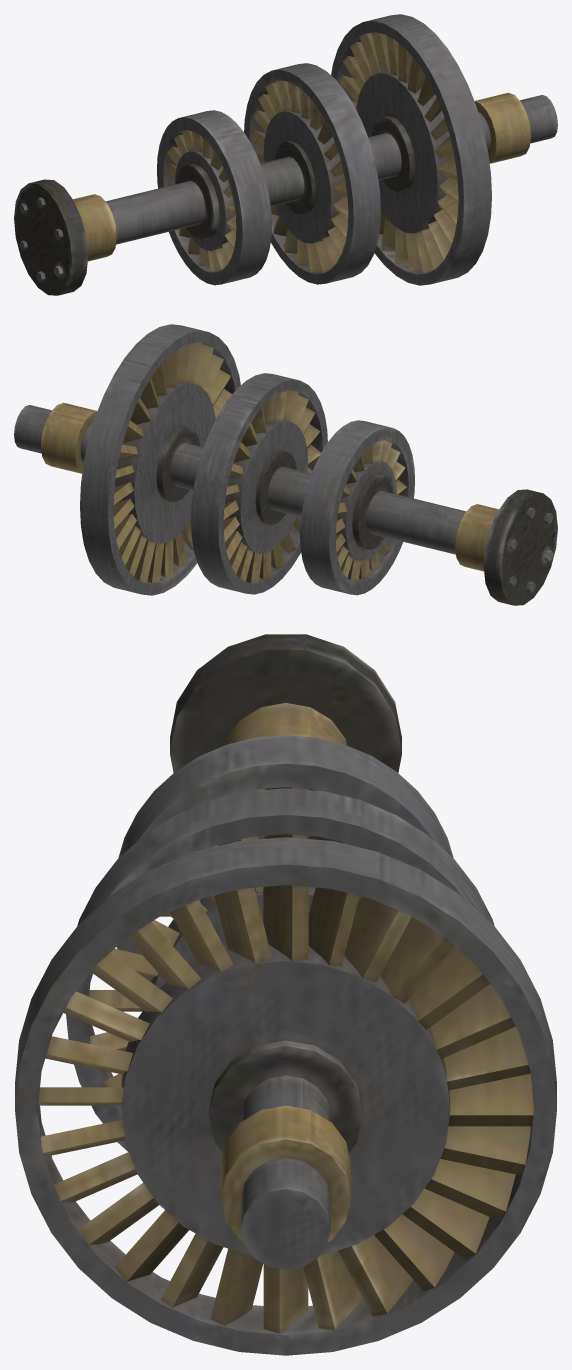
The model's file is feTurbineRotor.glb.
3 views of the same model, one above another, from view 1: azimuth 30°, elevation 25°; view 2: azimuth 150°, elevation 25°; view 3: azimuth 270°, elevation 25° (orthographic). The views are drawn at different scales.
Visible parts, largest first — view 1: feTurbineRotor_Base; view 2: feTurbineRotor_Base; view 3: feTurbineRotor_Base.
Part boxes in pixels (box(x1,y1,x2,y2)): feTurbineRotor_Base: box(14, 14, 557, 295); feTurbineRotor_Base: box(14, 324, 557, 605); feTurbineRotor_Base: box(15, 634, 556, 1355).
Bounding box in the file's own units: 0.9326 × 0.4312 × 0.4312.
Materials: 1 (1 with a texture image).
